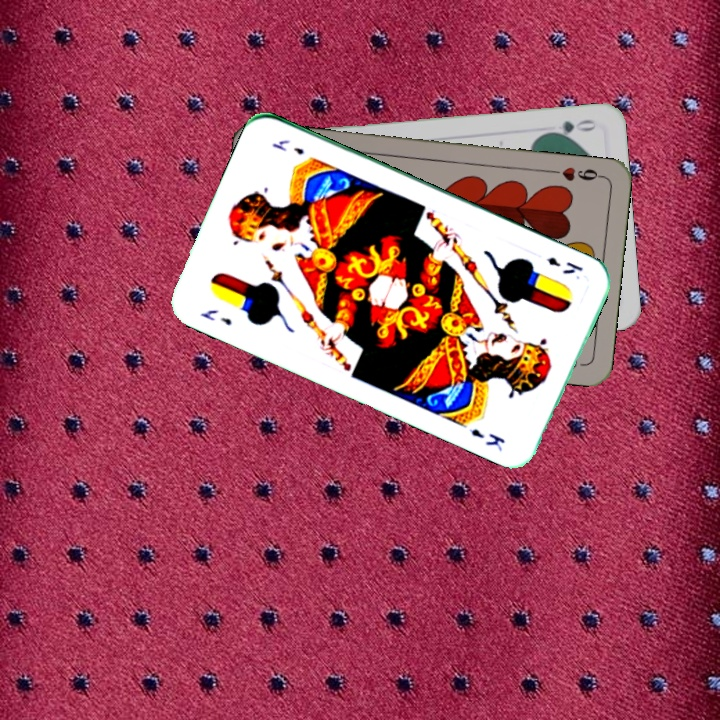EK: (543, 252, 585, 277), (196, 305, 235, 329)
GO: (541, 115, 600, 140)
H9: (546, 162, 605, 184)
